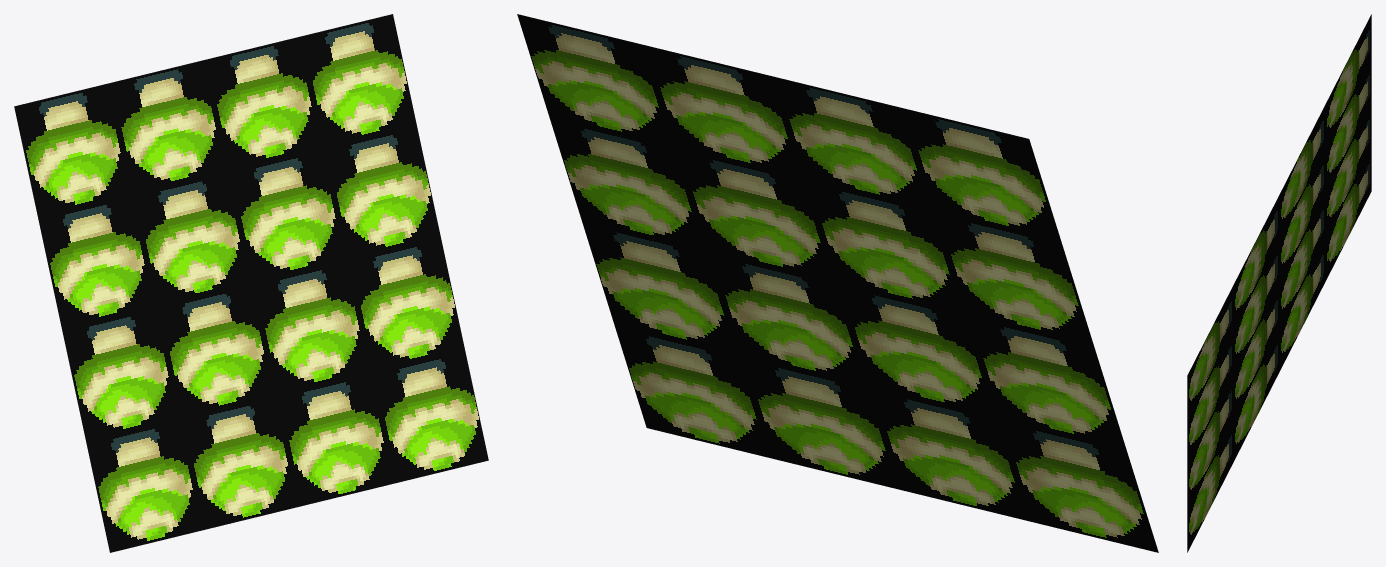
The model's file is kinoko_b06.gltf.
3 views of the same model, side by side, from view 1: azimuth 30°, elevation 25°; view 2: azimuth 150°, elevation 25°; view 3: azimuth 270°, elevation 25° (orthographic). The views are drawn at different scales.
Parts seen in each view (by area): view 1: kinoko_b06; view 2: kinoko_b06; view 3: kinoko_b06.
Boxes of the visible parts, box(x1,y1,x2,y2) form: kinoko_b06: box(14, 14, 488, 552); kinoko_b06: box(517, 14, 1158, 552); kinoko_b06: box(1187, 14, 1371, 552).
Bounding box in the file's own units: 0.6023 × 0.5718 × 0.2639.
Materials: 1 (1 with a texture image).
